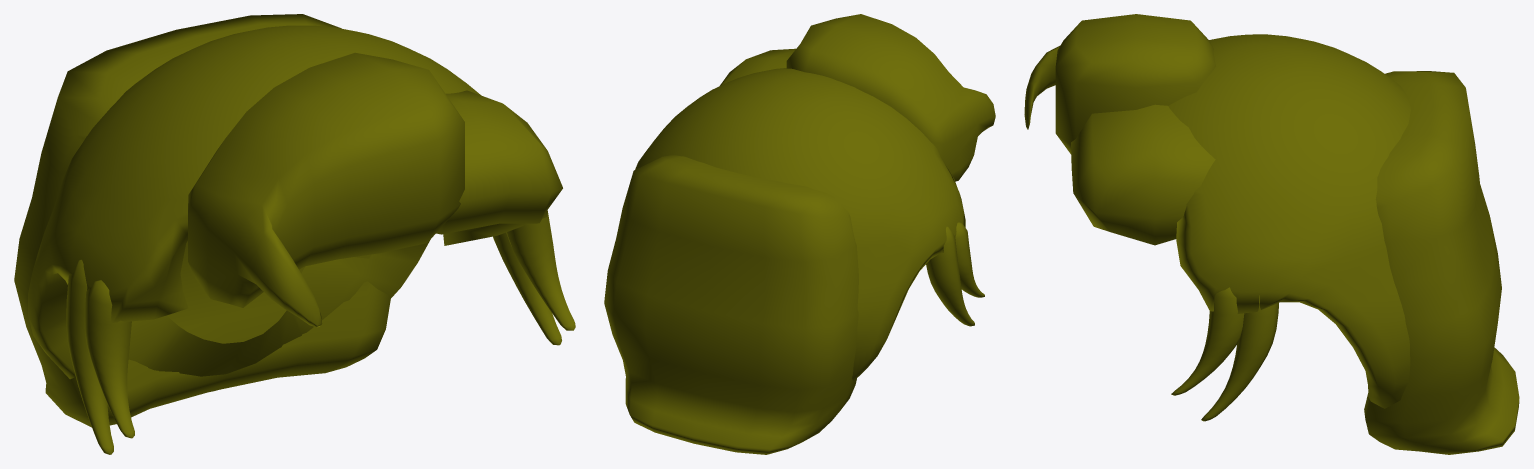
Rendered from HeadPiece_Male3.fbx.
3 renders of one model, left to right at view 1: azimuth 30°, elevation 25°; view 2: azimuth 150°, elevation 25°; view 3: azimuth 270°, elevation 25°, orthographic. The views are drawn at different scales.
Visible parts, largest first — view 1: pCube8; view 2: pCube8; view 3: pCube8.
Part boxes in pixels (x1,y1,x2,y2): pCube8: (14, 14, 575, 454); pCube8: (604, 14, 995, 454); pCube8: (1024, 14, 1519, 454).
Bounding box in the file's own units: 0.2318 × 0.2153 × 0.2554.
